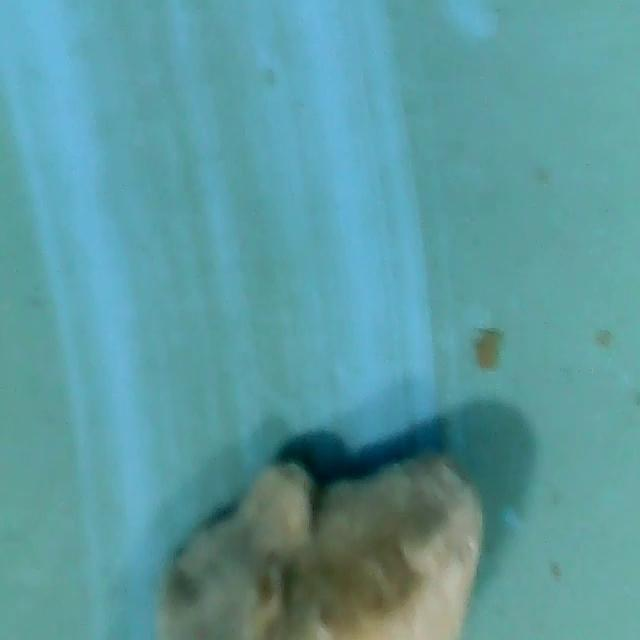rock: (157, 448, 489, 640)
